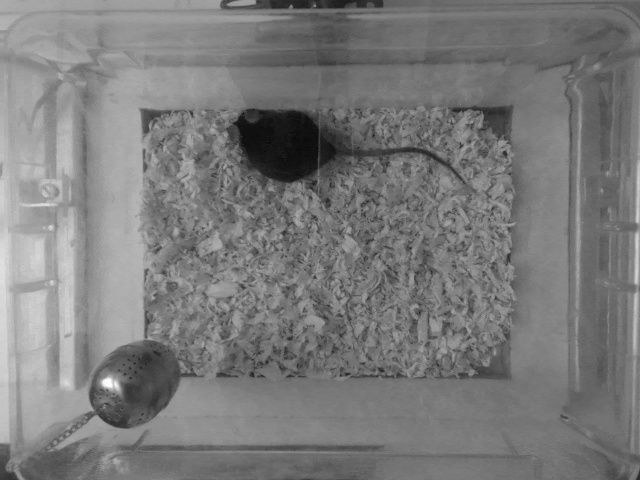mice: (227, 99, 473, 187)
